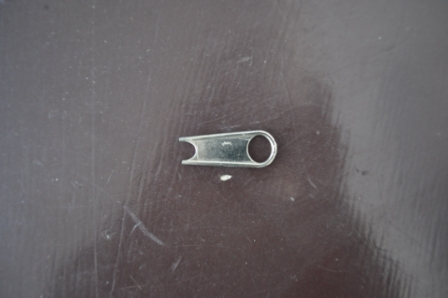METAL PIECE: (178, 129, 278, 169)
